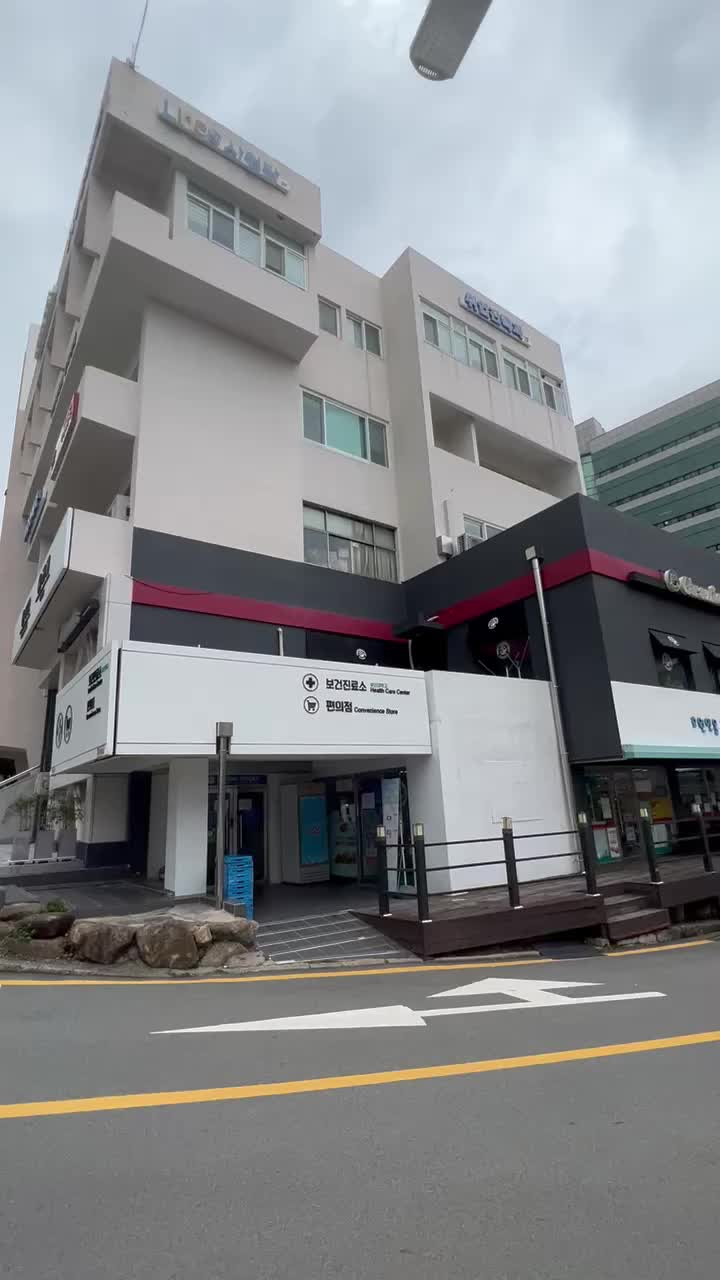medium: (0, 84, 626, 880)
